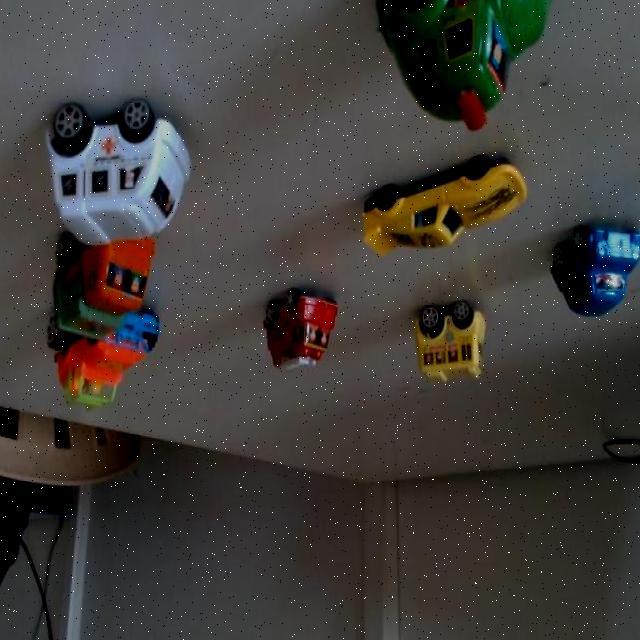car: (51, 67, 217, 272), (402, 0, 564, 116), (379, 141, 517, 268), (80, 302, 168, 416), (406, 283, 499, 390), (259, 269, 339, 384), (76, 223, 146, 347), (567, 221, 640, 320)
